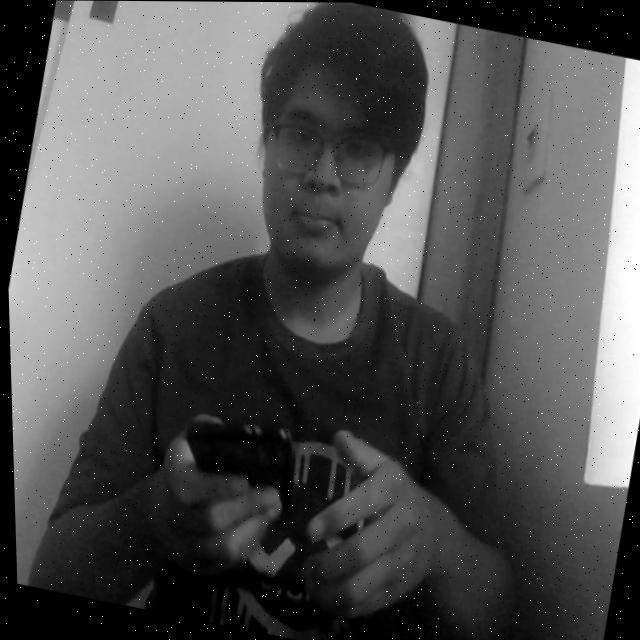phone: (167, 396, 306, 536)
